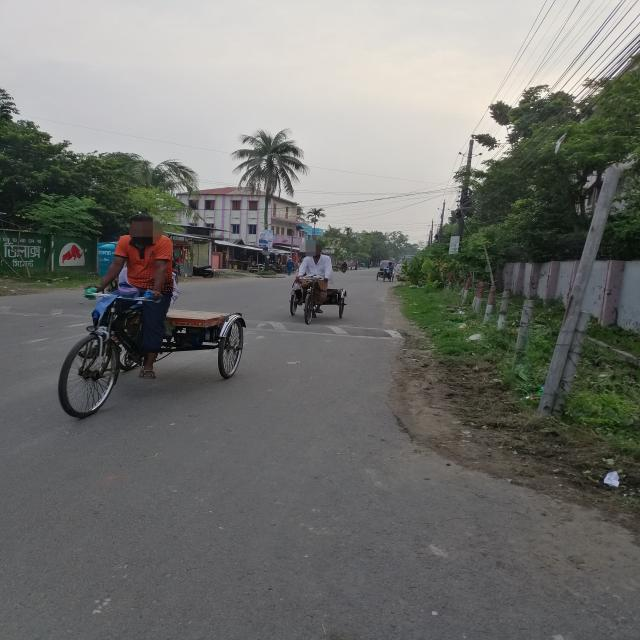Van: (54, 289, 246, 426), (287, 284, 353, 325)
